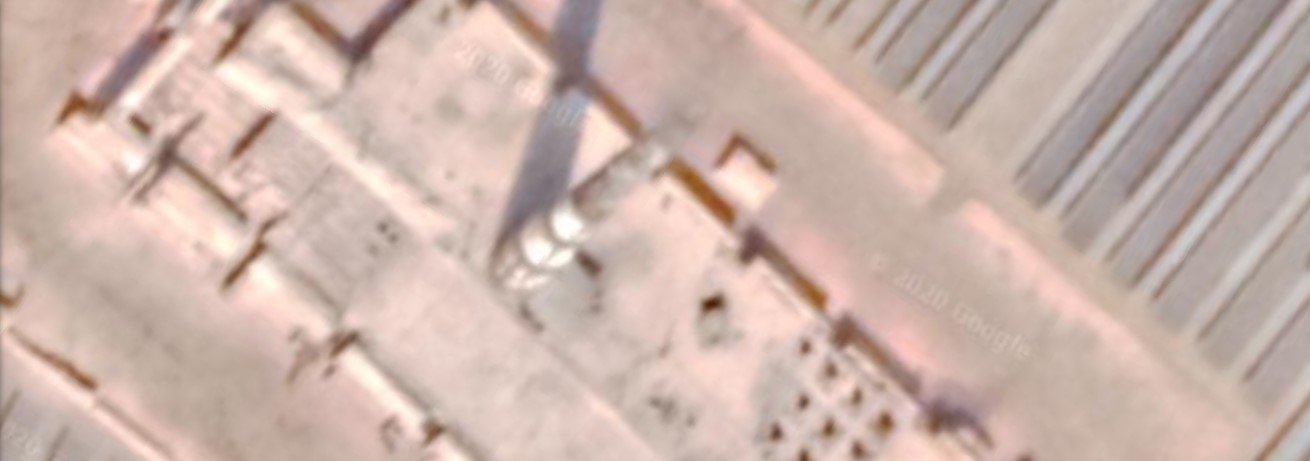kiln: (216, 5, 846, 460)
